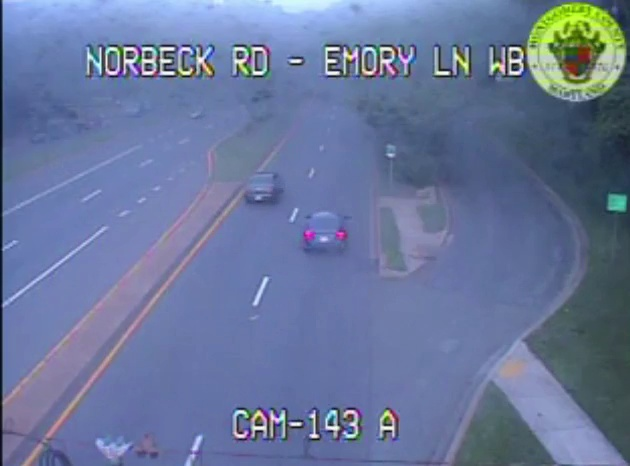car: (303, 212, 346, 251), (245, 174, 281, 202)
